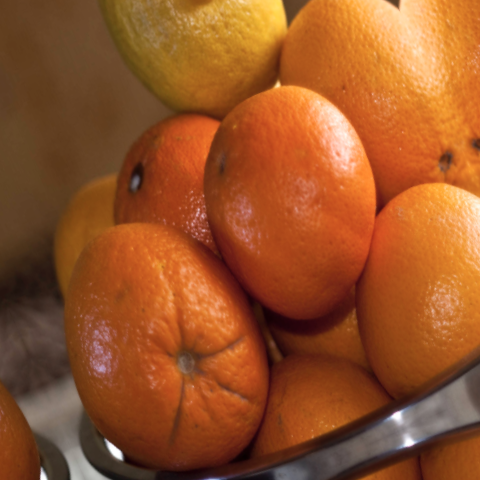orange: (132, 20, 428, 360), (9, 180, 317, 480)
